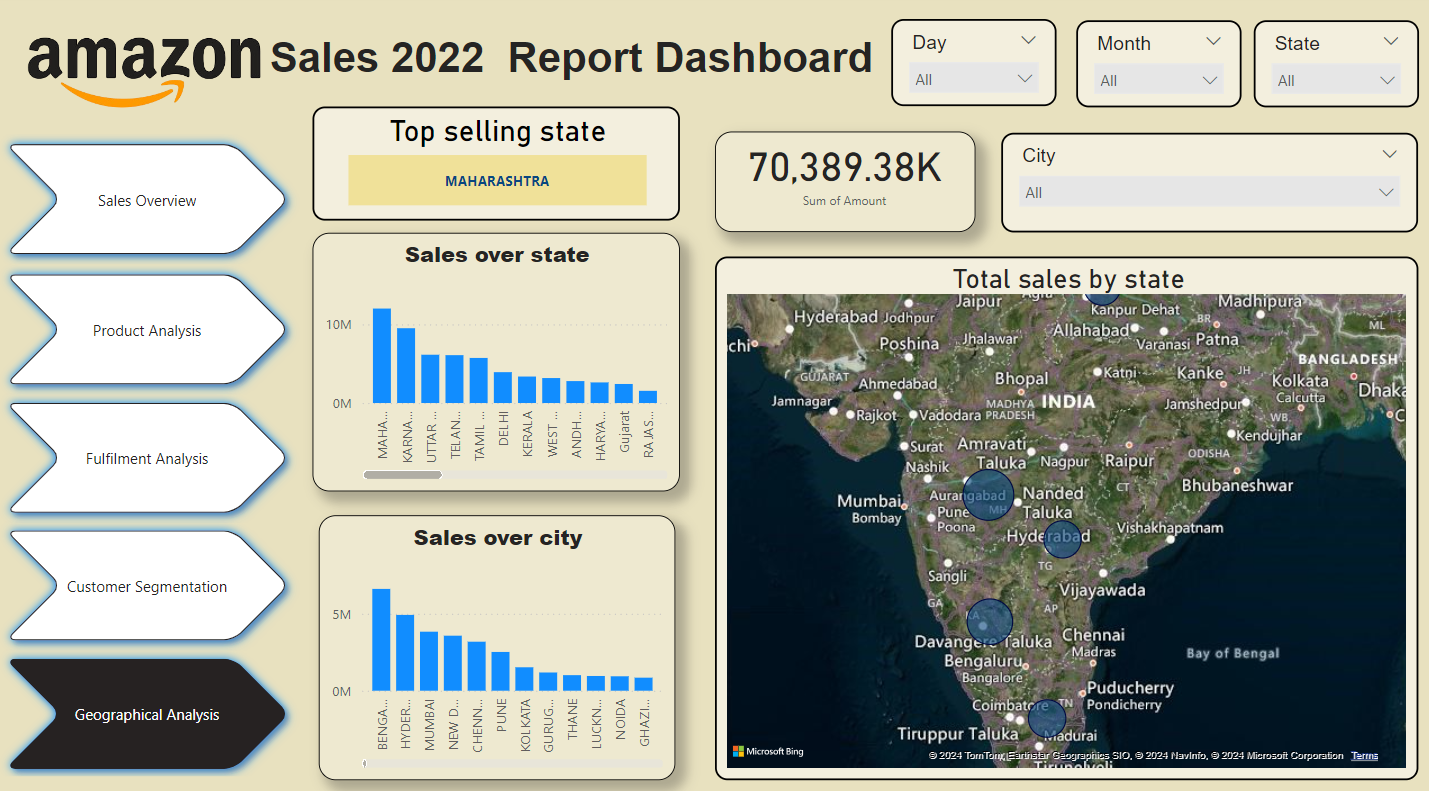

Layout of this report page (visuals, bound fields, positions):
{"tool":"powerbi","page":{"name":"Geographical Analysis","canvas":[1280,720],"ordinal":4},"visuals":[{"type":"image","box":[24.1,30.2,217.2,79.6],"z":0},{"type":"textbox","box":[229.2,30.2,569.4,60.3],"z":1000},{"type":"pageNavigator","box":[0,124.3,271.4,575.5],"z":2000},{"type":"slicer","fields":{"Values":["Amazon Sale Report - Copy.Date.Variation.Date Hierarchy.Month"]},"box":[962.7,22.9,147.2,77.2],"z":3000},{"type":"slicer","fields":{"Values":["Amazon Sale Report - Copy.Date.Variation.Date Hierarchy.Day"]},"box":[798.7,21.7,147.2,77.2],"z":4000},{"type":"slicer","fields":{"Values":["Amazon Sale Report - Copy.ship-state"]},"box":[1120.8,22.9,147.2,77.2],"z":5000},{"type":"card","fields":{"Values":["Sum(Amazon Sale Report - Copy.Amount)"]},"box":[640.7,122.2,231.8,89.9],"z":6000},{"type":"slicer","fields":{"Values":["Amazon Sale Report - Copy.ship-city"]},"box":[896.4,123.6,370.9,88.5],"z":7000},{"type":"columnChart","title":"Sales over city","fields":{"Category":["Amazon Sale Report - Copy.ship-city"],"Y":["Sum(Amazon Sale Report - Copy.Amount)"]},"box":[288,463.7,317.5,236],"z":8000},{"type":"columnChart","title":"Sales over state","fields":{"Y":["Sum(Amazon Sale Report - Copy.Amount)"],"Category":["Amazon Sale Report - Copy.ship-state"]},"box":[282.4,212.2,327.4,230.4],"z":9000},{"type":"map","title":"Total sales by state","fields":{"Category":["Amazon Sale Report - Copy.ship-state"],"Size":["CountNonNull(Amazon Sale Report - Copy.Amount)"]},"box":[640.7,233.2,626.7,466.5],"z":10000},{"type":"slicer","title":"Top selling state","fields":{"Values":["Amazon Sale Report - Copy.ship-state"]},"box":[282.3,100.1,326.9,101.3],"z":11000}]}

Visuals, with their boxes in screenshot pixels (x1, y1, x2, y2), scaled from the page's 1280x720 canvas onto the 1429x791 screenshot:
image: <bbox>27, 33, 269, 121</bbox>
textbox: <bbox>256, 33, 892, 99</bbox>
pageNavigator: <bbox>0, 137, 303, 769</bbox>
slicer - Amazon Sale Report - Copy.Date.Variation.Date Hierarchy.Month: <bbox>1075, 25, 1239, 110</bbox>
slicer - Amazon Sale Report - Copy.Date.Variation.Date Hierarchy.Day: <bbox>892, 24, 1056, 109</bbox>
slicer - Amazon Sale Report - Copy.ship-state: <bbox>1251, 25, 1416, 110</bbox>
card - Sum(Amazon Sale Report - Copy.Amount): <bbox>715, 134, 974, 233</bbox>
slicer - Amazon Sale Report - Copy.ship-city: <bbox>1001, 136, 1415, 233</bbox>
"Sales over city" columnChart: <bbox>322, 509, 676, 769</bbox>
"Sales over state" columnChart: <bbox>315, 233, 681, 486</bbox>
"Total sales by state" map: <bbox>715, 256, 1415, 769</bbox>
"Top selling state" slicer: <bbox>315, 110, 680, 221</bbox>
